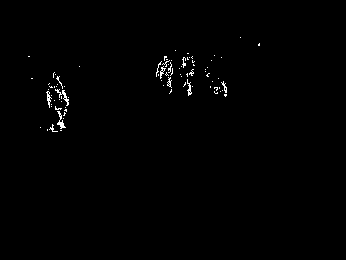person: (44, 71, 70, 134), (178, 51, 195, 98), (155, 54, 173, 93)
